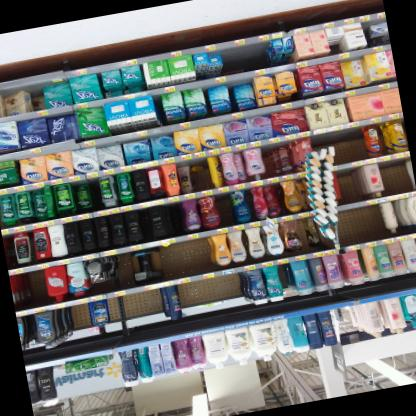empty_space: (177, 266, 250, 318), (105, 284, 167, 334), (334, 197, 388, 246), (158, 232, 213, 280), (218, 35, 271, 76), (379, 151, 415, 195), (331, 121, 365, 162), (338, 161, 368, 203), (66, 298, 94, 340), (25, 264, 50, 308)
